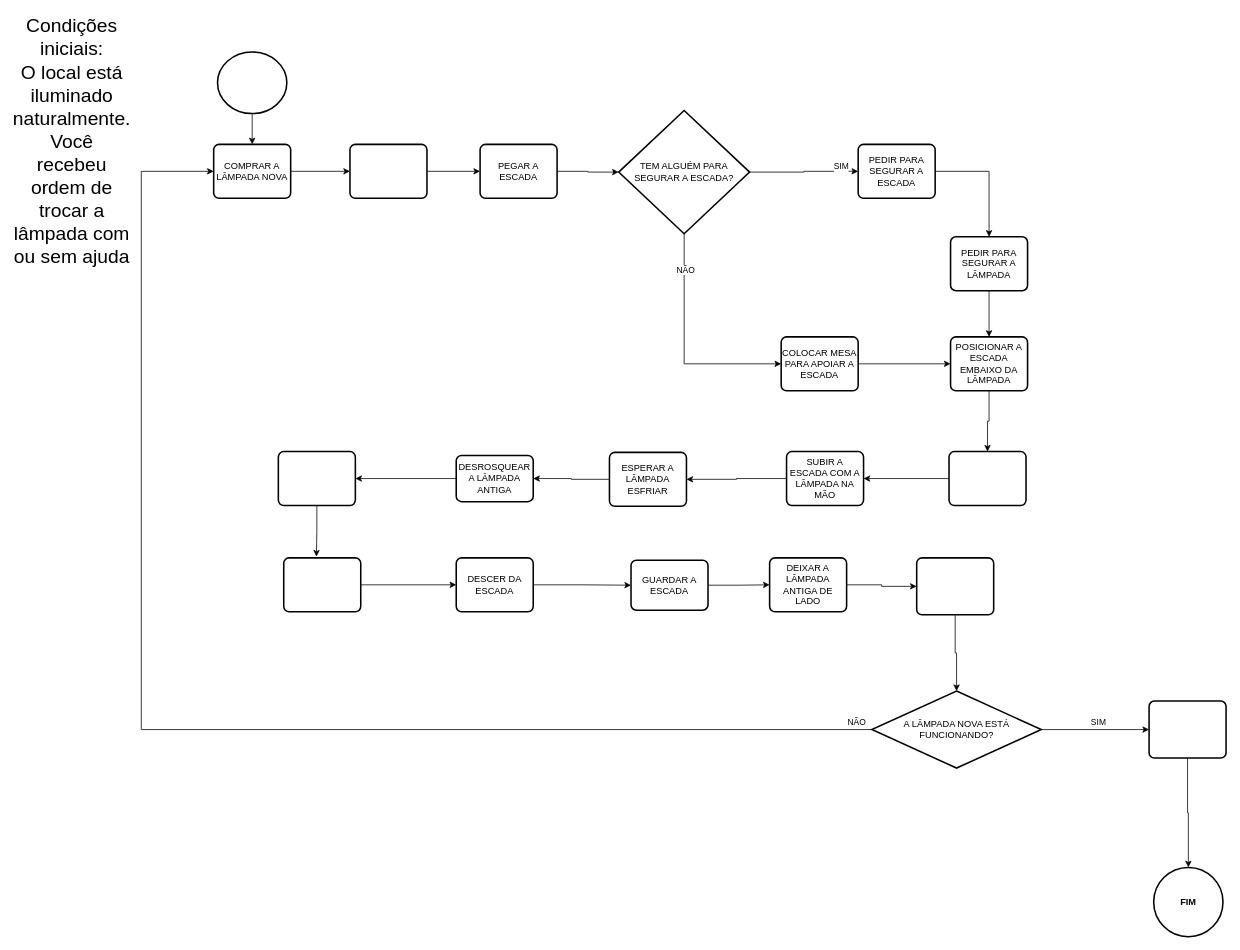
Some shapes in this 1240 by 950 pixel diagram are drawn without their labels. The centre of each missing label's shape, as x and y in pixels:
"DESCARTAR A LÂMPADA ANTIGA" goes at (1187,729).
"DESLIGAR A ENERGIA" goes at (388,171).
"GUARDAR A LÂMPADA ANTIGA NO BOLSO" goes at (316,478).
"INÍCIO" goes at (251,82).
"PEGAR A LÂMPADA NOVA" goes at (987,478).
"RELIGAR A ENERGIA" goes at (955,586).
"ROSQUEAR A LÂMPADA NOVA" goes at (322,584).
